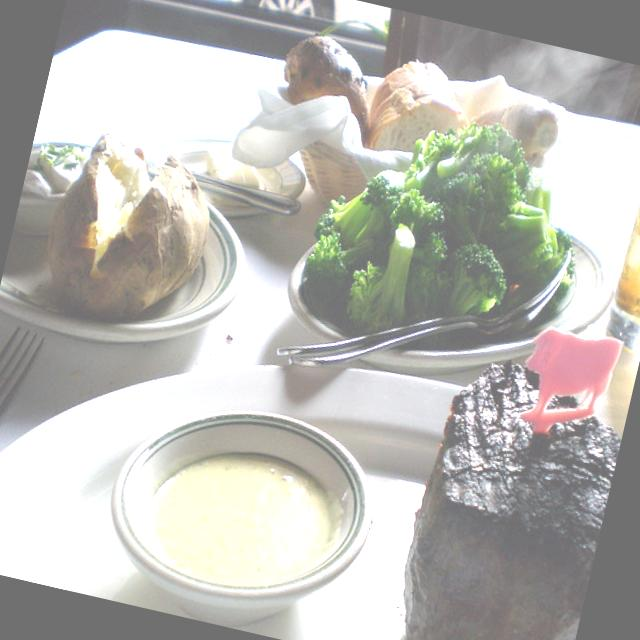Vehicle: (204, 0, 394, 38)
